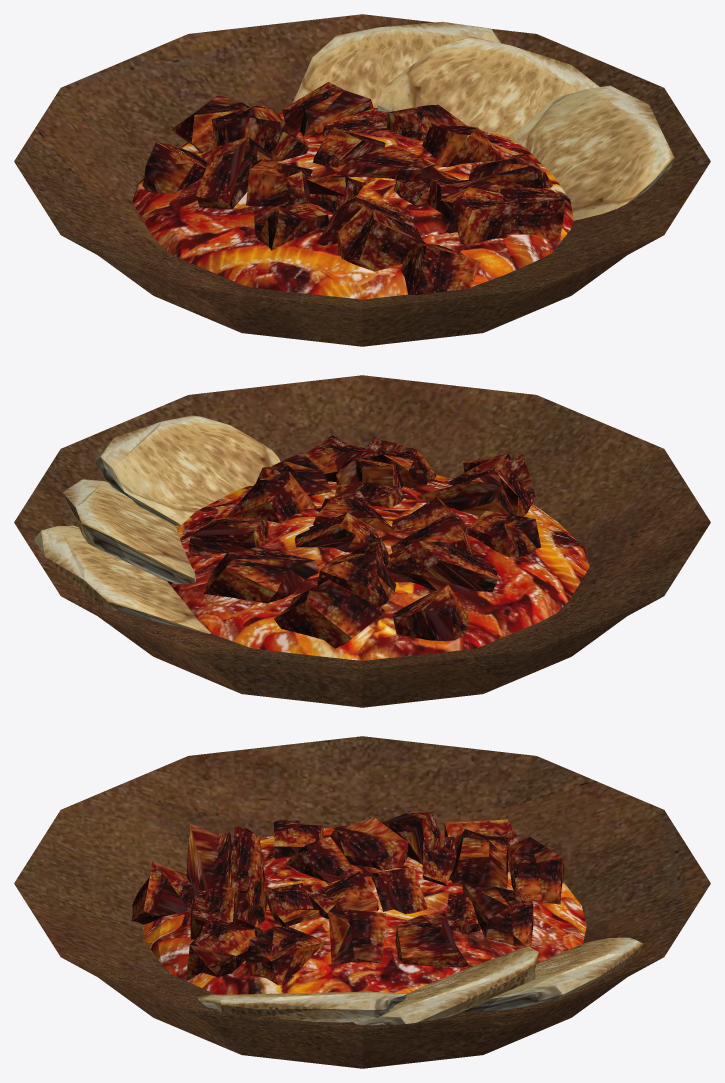
The model's file is ITFO_GS_ROAST_01.glb.
3 renders of one model, top to bottom at view 1: azimuth 30°, elevation 25°; view 2: azimuth 150°, elevation 25°; view 3: azimuth 270°, elevation 25°, orthographic.
Parts seen in each view (by area): view 1: ITFO_GS_ROAST_01; view 2: ITFO_GS_ROAST_01; view 3: ITFO_GS_ROAST_01.
Part boxes in pixels (<box>): ITFO_GS_ROAST_01: <box>14,14,710,346</box>; ITFO_GS_ROAST_01: <box>14,375,710,707</box>; ITFO_GS_ROAST_01: <box>14,736,710,1068</box>.
Size of the model in its own units: 0.3731 by 0.0632 by 0.3731.
4 materials, 4 textured.
